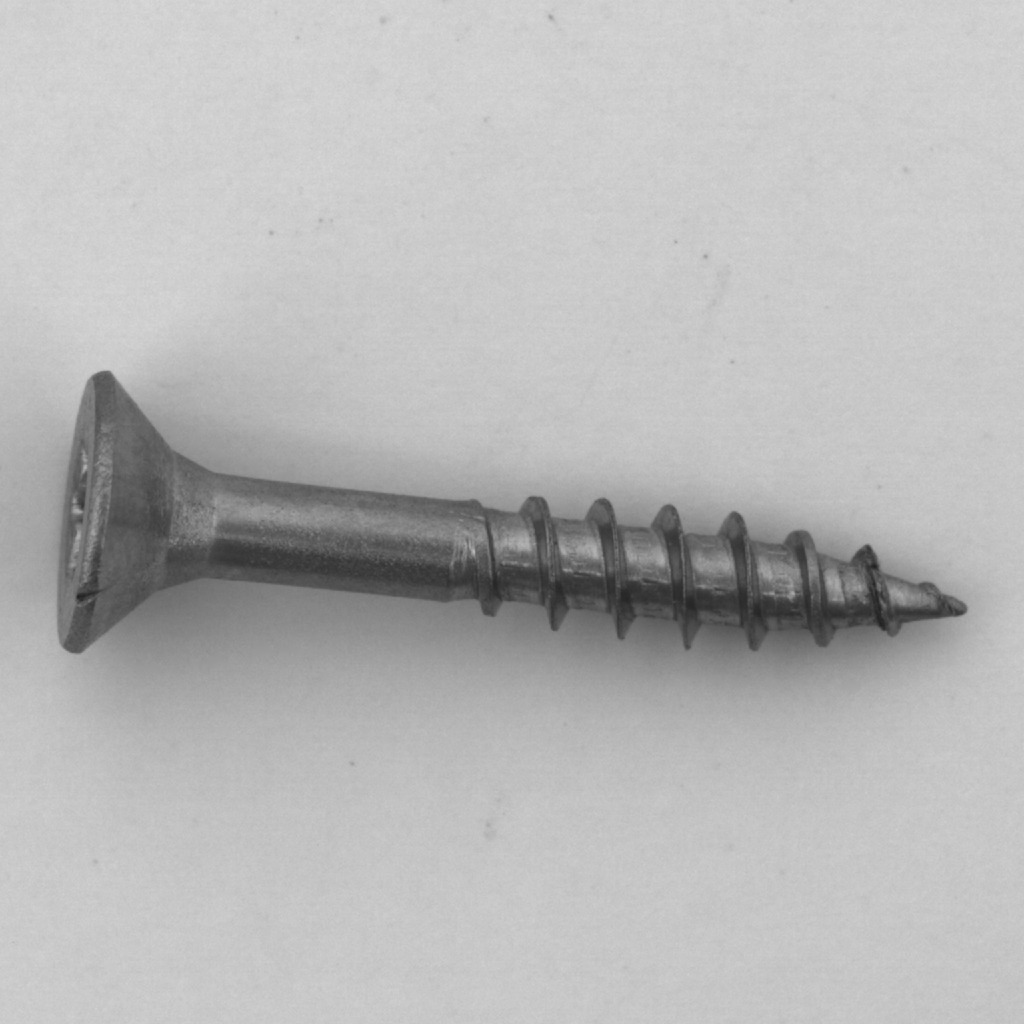good: (28, 356, 988, 745)
